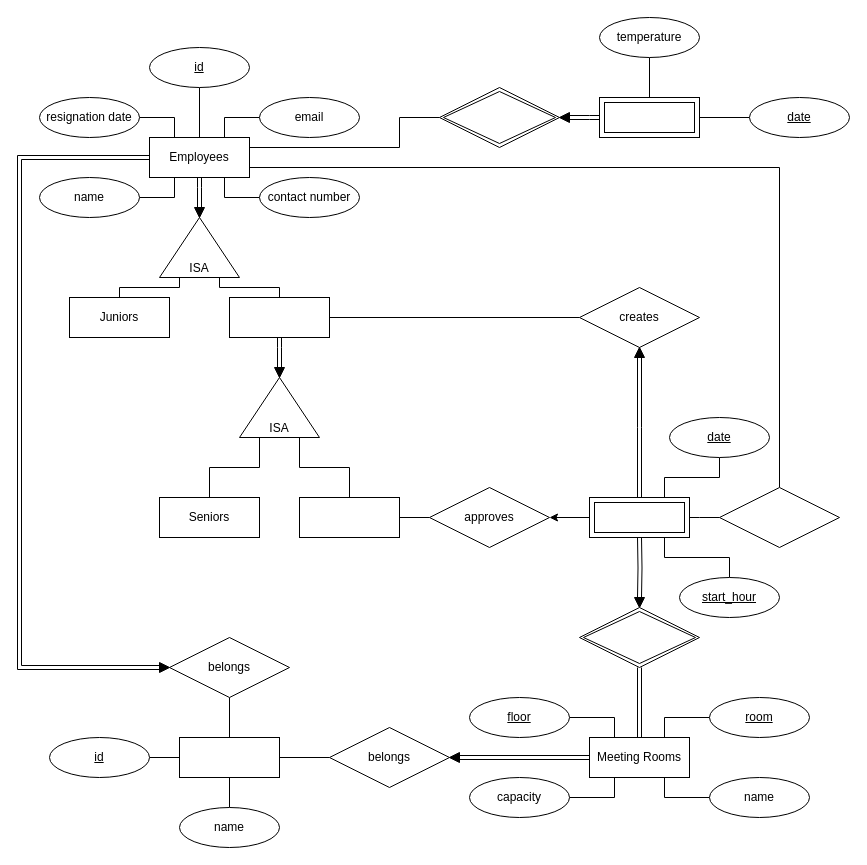
Image size: 867x865. Some labels were removed from this diagram. The shapes that lost their labels are listed below. From the top down, each one's box as (x1, y1, x2, y2) in pixels, then its label:
(438, 86, 560, 148): declares
(598, 96, 700, 138): Health Declarations
(228, 296, 330, 338): Superiors
(298, 496, 400, 538): Managers
(588, 496, 690, 538): Bookings
(718, 486, 840, 548): attends
(578, 606, 700, 668): holds
(178, 736, 280, 778): Departments
